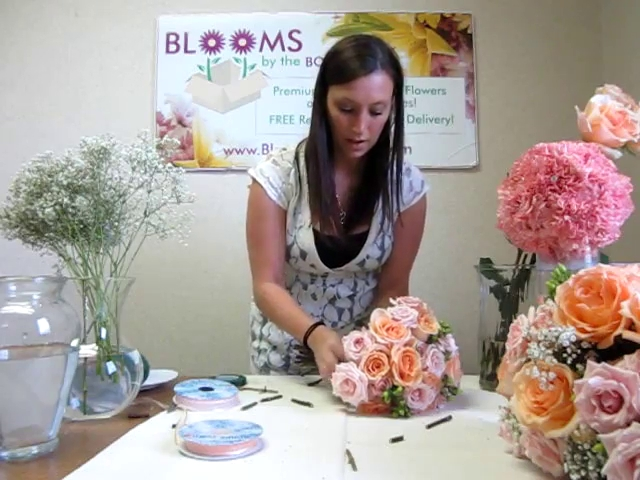person: (246, 35, 428, 375)
